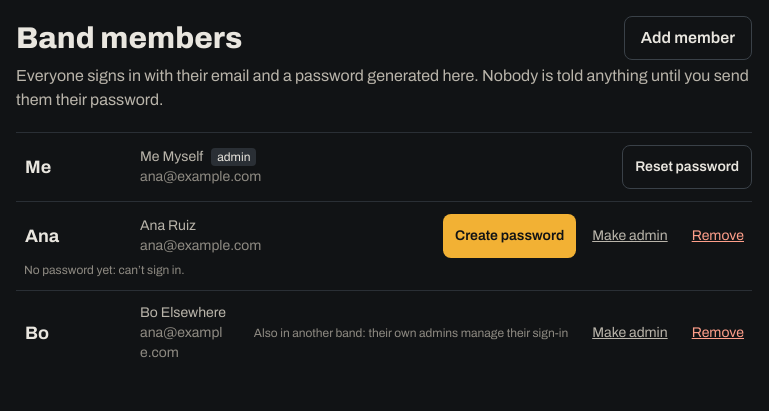
Test: Members › says why a password couldn’t be made
Click the button "Create password" at (510, 236), box [443,214,576,258]
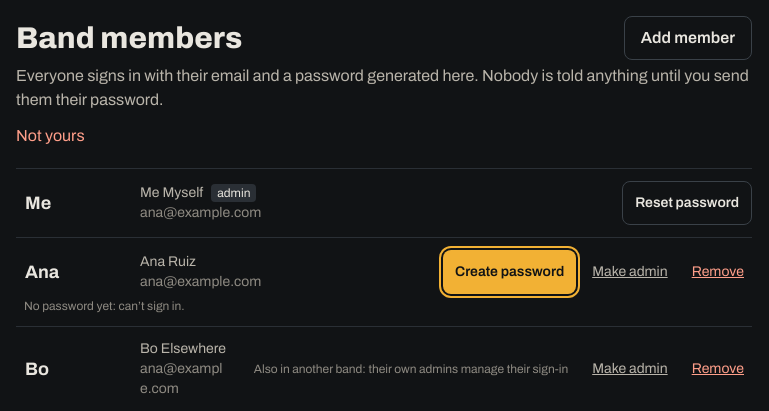
Check: the message reads "Not yours", box [16,127,85,144]
